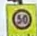limite 50: (11, 9, 31, 30)
